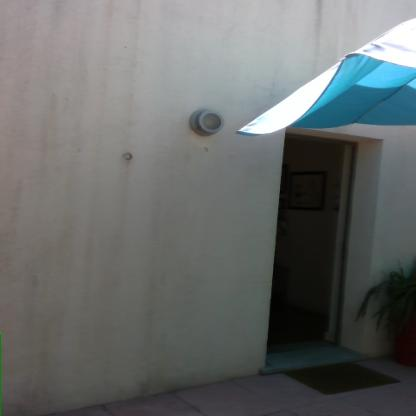open: (256, 125, 383, 379)
